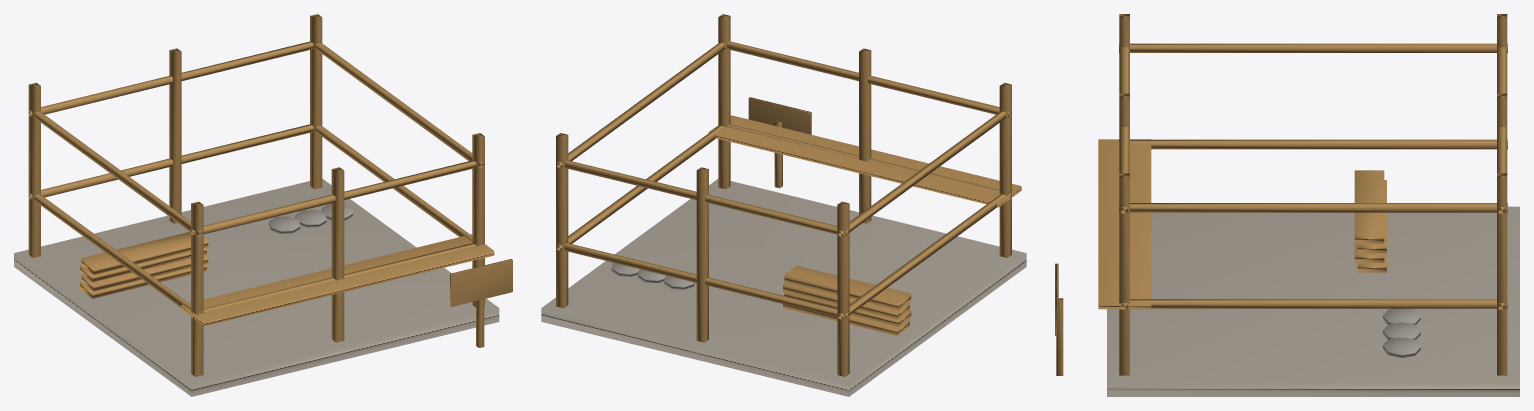
File: construction.glb
3 renders of one model, left to right at view 1: azimuth 30°, elevation 25°; view 2: azimuth 150°, elevation 25°; view 3: azimuth 270°, elevation 25°, orthographic. The views are drawn at different scales.
Parts seen in each view (by area): view 1: foundation, floor_planks, beam1_front, beam1_back, beam0_back, post5, sign_board, post0, post2, post1, post4, stack3 (+11 smaller); view 2: foundation, floor_planks, beam1_back, beam0_back, beam1_front, post4, post0, post1, post2, stack3, post3, post5 (+9 smaller); view 3: foundation, floor_planks, beam0_left, beam1_right, beam1_left, beam0_right, post1, post3, stack3, beam1_front, beam1_back, stone2 (+8 smaller).
Part boxes in pixels (left/top/right/bottom): foundation: left=14, top=179, right=499, bottom=396; floor_planks: left=181, top=234, right=494, bottom=326; beam1_front: left=191, top=160, right=476, bottom=236; beam1_back: left=29, top=41, right=313, bottom=117; beam0_back: left=29, top=124, right=313, bottom=200; post5: left=331, top=167, right=344, bottom=342; sign_board: left=450, top=259, right=512, bottom=306; post0: left=28, top=82, right=40, bottom=257; post2: left=191, top=201, right=203, bottom=376; post1: left=310, top=14, right=322, bottom=189; post4: left=169, top=48, right=181, bottom=223; stack3: left=81, top=232, right=208, bottom=274; foundation: left=541, top=179, right=1026, bottom=396; floor_planks: left=708, top=115, right=1021, bottom=207; beam1_back: left=564, top=160, right=849, bottom=236; beam0_back: left=564, top=243, right=849, bottom=319; beam1_front: left=727, top=41, right=1011, bottom=117; post4: left=696, top=167, right=708, bottom=342; post0: left=837, top=201, right=849, bottom=376; post1: left=556, top=133, right=568, bottom=308; post2: left=999, top=82, right=1011, bottom=257; stack3: left=784, top=266, right=911, bottom=309; post3: left=718, top=14, right=730, bottom=189; post5: left=859, top=48, right=871, bottom=223; foundation: left=1107, top=206, right=1519, bottom=396; floor_planks: left=1098, top=139, right=1151, bottom=309; beam0_left: left=1119, top=139, right=1507, bottom=149; beam1_right: left=1119, top=203, right=1507, bottom=212; beam1_left: left=1119, top=43, right=1507, bottom=52; beam0_right: left=1119, top=299, right=1507, bottom=308; post1: left=1497, top=173, right=1507, bottom=375; post3: left=1119, top=173, right=1129, bottom=375; stack3: left=1354, top=170, right=1384, bottom=243; beam1_front: left=1121, top=47, right=1128, bottom=213; beam1_back: left=1498, top=47, right=1505, bottom=213; stone2: left=1383, top=337, right=1420, bottom=358.
Size of the model in its own units: 7 by 4 by 7.88.
